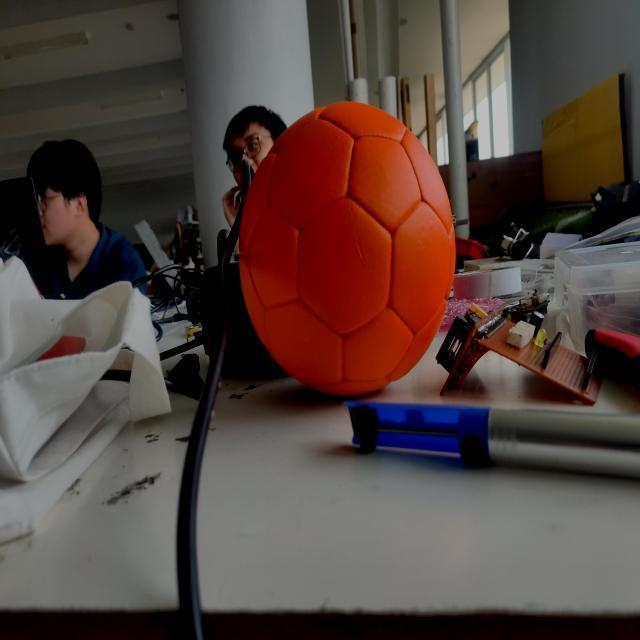bola: (237, 96, 457, 408)
